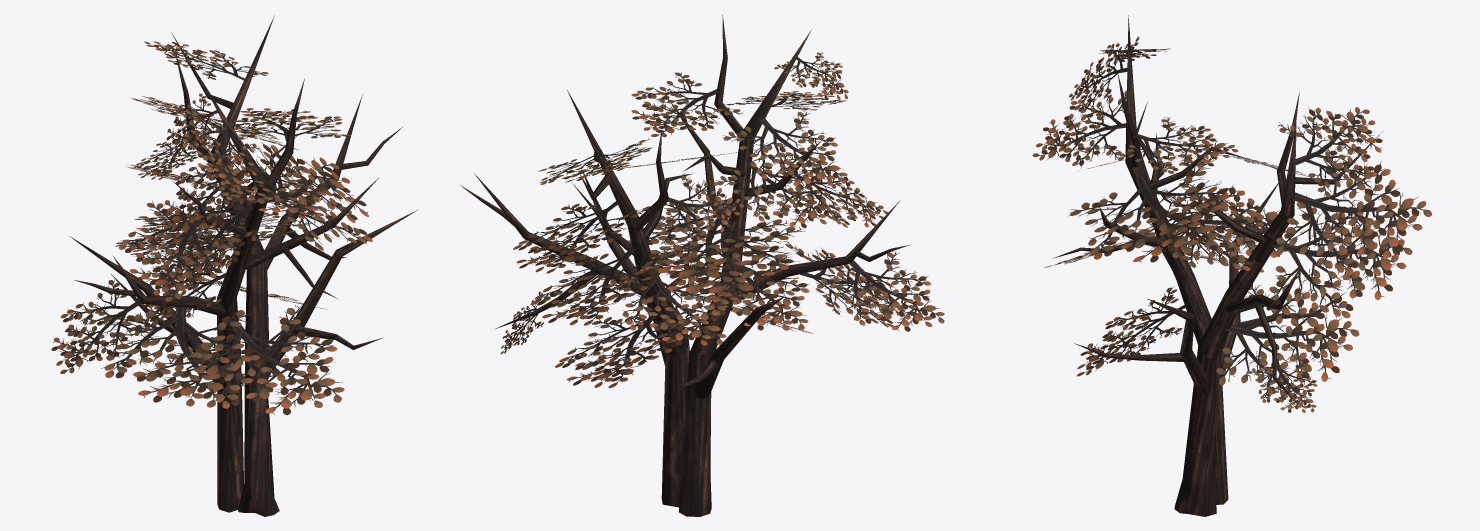
The model's file is plant_tree_02_01.fbx.
The picture shows the model from 3 angles, left to right: view 1: azimuth 30°, elevation 25°; view 2: azimuth 150°, elevation 25°; view 3: azimuth 270°, elevation 25°; orthographic projection. The views are drawn at different scales.
Parts seen in each view (by area): view 1: tree_02_01.001, tree_02_01; view 2: tree_02_01.001, tree_02_01; view 3: tree_02_01.001, tree_02_01.
Boxes of the visible parts, box(x1,y1,x2,y2) form: tree_02_01.001: box(51, 41, 372, 415); tree_02_01: box(69, 15, 418, 516); tree_02_01.001: box(500, 52, 944, 388); tree_02_01: box(460, 15, 910, 516); tree_02_01.001: box(1032, 36, 1431, 412); tree_02_01: box(1053, 15, 1382, 516).
Size of the model in its own units: 431 by 449 by 416.
Materials: 2 (2 with a texture image).
